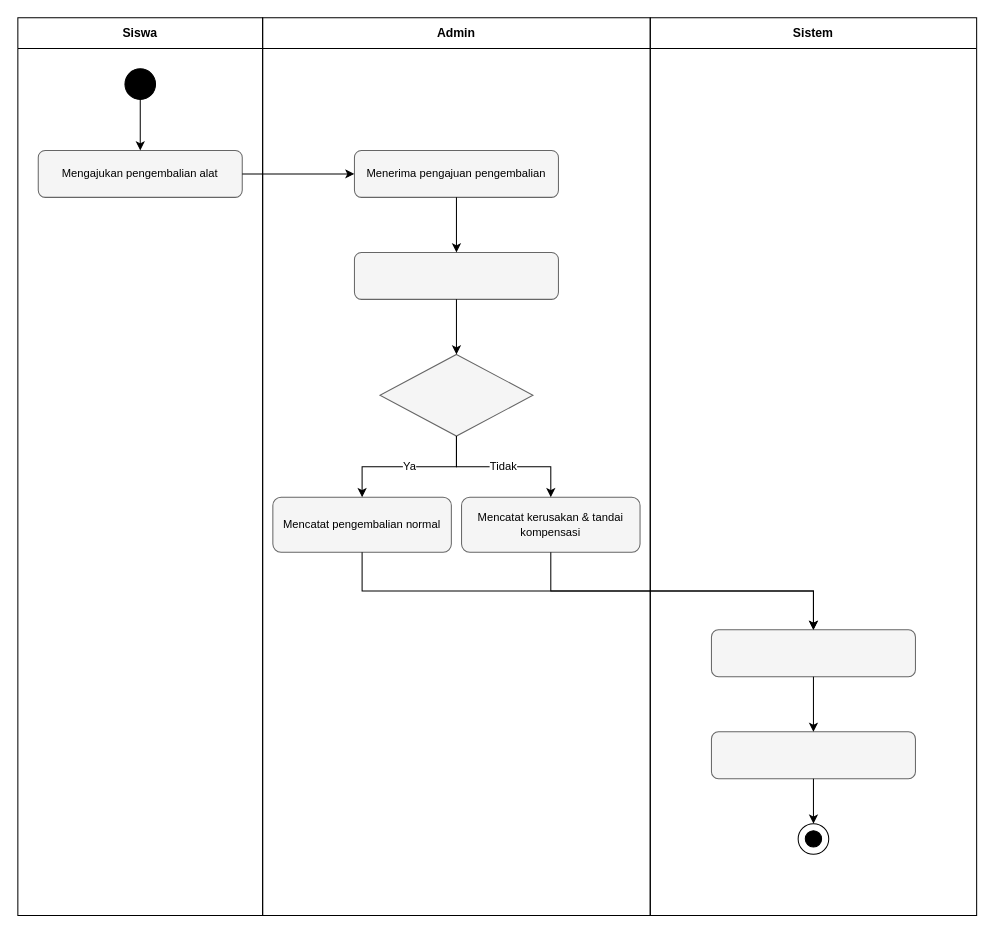
Some shapes in this 995 by 933 pixel diagram are drawn without their labels. Each missing label, with the centre of its shape:
Alat baik & lengkap?: the point at 456,394
Memeriksa kondisi alat: the point at 455,275
Menambah kembali stok alat: the point at 812,653
Mengubah status jadi Dikembalikan: the point at 812,755
